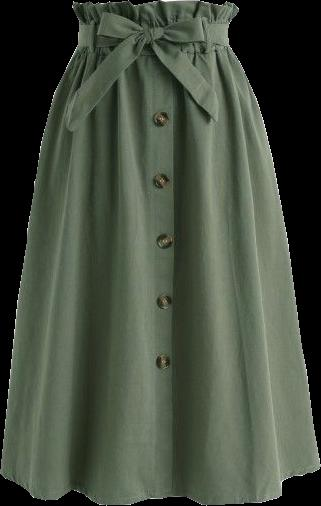Hemline: (0, 466, 320, 505)
Waistline: (71, 0, 238, 10)
